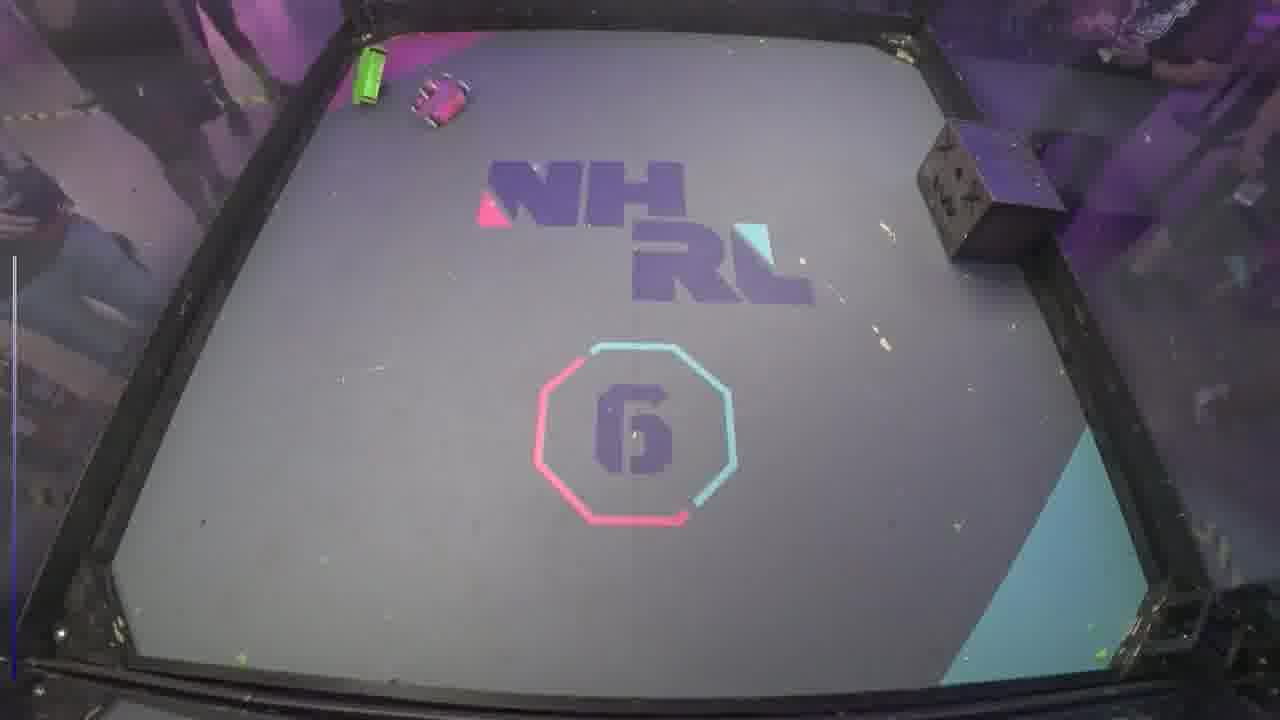combatbot: (407, 72, 478, 132), (345, 45, 390, 109)
housebot: (917, 123, 1066, 266)
